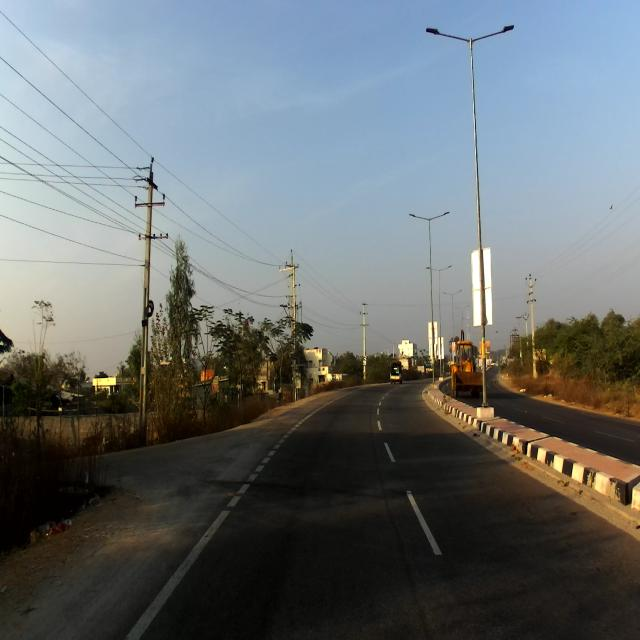electric pole ahead at: (127, 143, 176, 445)
